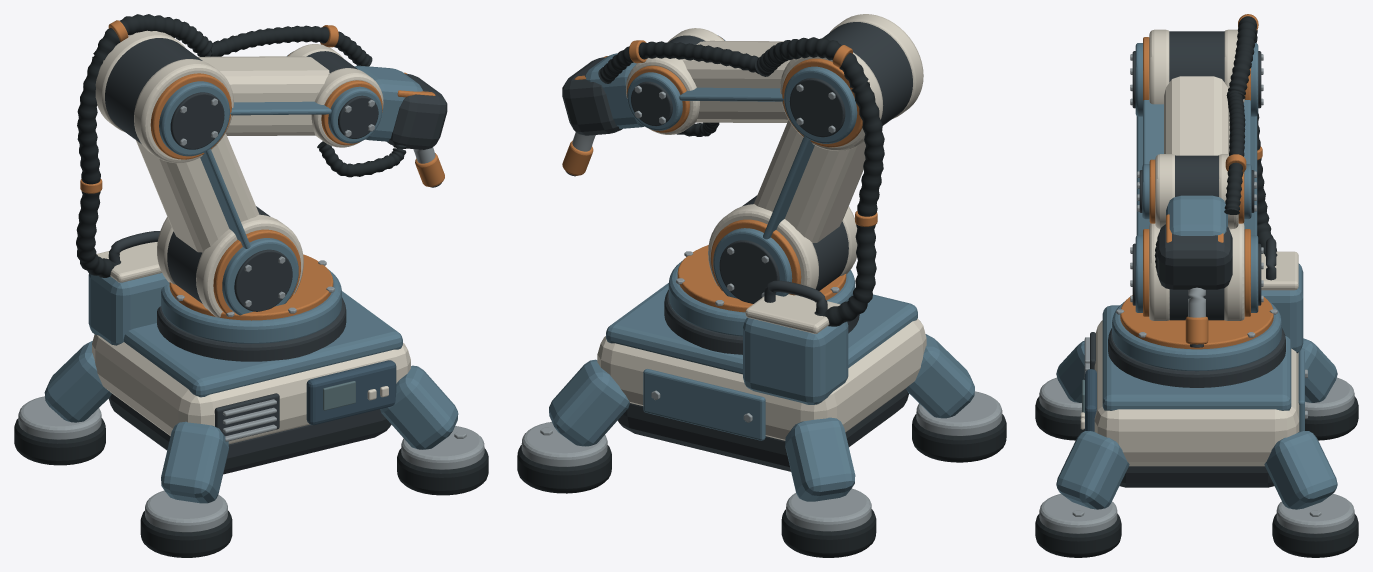
File: articulated_welding_mech.glb
The picture shows the model from 3 angles, left to right: view 1: azimuth 30°, elevation 25°; view 2: azimuth 150°, elevation 25°; view 3: azimuth 270°, elevation 25°; orthographic projection. The views are drawn at different scales.
Visible parts, largest first — view 1: Chassis.RoundedArmor, Chassis.TopDeck, Arm.Lower.MainHousing, Arm.Upper.MainHousing, Cable.BaseToElbow, Chassis.LowerTray, Waist.RotationDrum, Stabilizer.00.AngledLeg, Controller.Body, Stabilizer.01.AngledLeg, Joint.Elbow.Core, Waist.TurntableBase (+35 smaller); view 2: Chassis.RoundedArmor, Controller.Body, Cable.BaseToElbow, Arm.Lower.MainHousing, Chassis.TopDeck, Chassis.ServiceRear, Chassis.LowerTray, Stabilizer.02.AngledLeg, Arm.Upper.MainHousing, Stabilizer.03.AngledLeg, Joint.Elbow.Core, Stabilizer.00.AngledLeg (+32 smaller); view 3: Chassis.RoundedArmor, Chassis.TopDeck, Arm.Upper.MainHousing, Waist.RotationDrum, Head.ProtectiveShroud, Stabilizer.01.AngledLeg, Stabilizer.03.AngledLeg, Waist.CopperSeal, Waist.TurntableBase, Chassis.LowerTray, Joint.Elbow.Core, Cable.BaseToElbow (+41 smaller).
Part boxes in pixels (x1,y1,x2,y2): Chassis.RoundedArmor: [92, 334, 410, 444]; Chassis.TopDeck: [123, 291, 402, 397]; Arm.Lower.MainHousing: [136, 133, 259, 252]; Arm.Upper.MainHousing: [198, 56, 329, 135]; Cable.BaseToElbow: [76, 14, 215, 277]; Chassis.LowerTray: [108, 393, 391, 474]; Waist.RotationDrum: [161, 269, 341, 343]; Stabilizer.00.AngledLeg: [161, 421, 228, 503]; Controller.Body: [88, 273, 169, 345]; Stabilizer.01.AngledLeg: [380, 365, 458, 449]; Joint.Elbow.Core: [105, 38, 202, 143]; Waist.TurntableBase: [157, 297, 346, 361]; Chassis.RoundedArmor: [597, 318, 926, 440]; Controller.Body: [743, 317, 848, 404]; Cable.BaseToElbow: [755, 37, 884, 326]; Arm.Lower.MainHousing: [754, 120, 865, 242]; Chassis.TopDeck: [606, 283, 917, 374]; Chassis.ServiceRear: [643, 369, 765, 440]; Chassis.LowerTray: [618, 388, 908, 471]; Stabilizer.02.AngledLeg: [785, 417, 855, 501]; Arm.Upper.MainHousing: [682, 40, 790, 122]; Stabilizer.03.AngledLeg: [549, 359, 629, 446]; Joint.Elbow.Core: [823, 22, 912, 125]; Stabilizer.00.AngledLeg: [906, 334, 974, 418]; Chassis.RoundedArmor: [1094, 320, 1299, 466]; Chassis.TopDeck: [1102, 305, 1291, 410]; Arm.Upper.MainHousing: [1164, 76, 1229, 155]; Waist.RotationDrum: [1112, 301, 1281, 371]; Head.ProtectiveShroud: [1157, 224, 1232, 289]; Stabilizer.01.AngledLeg: [1056, 431, 1129, 509]; Stabilizer.03.AngledLeg: [1264, 431, 1337, 509]; Waist.CopperSeal: [1120, 295, 1273, 349]; Waist.TurntableBase: [1108, 328, 1285, 387]; Chassis.LowerTray: [1119, 466, 1274, 487]; Joint.Elbow.Core: [1169, 31, 1224, 81]; Cable.BaseToElbow: [1227, 16, 1277, 256].
Size of the model in its own units: 2.89 by 3.46 by 2.4.
